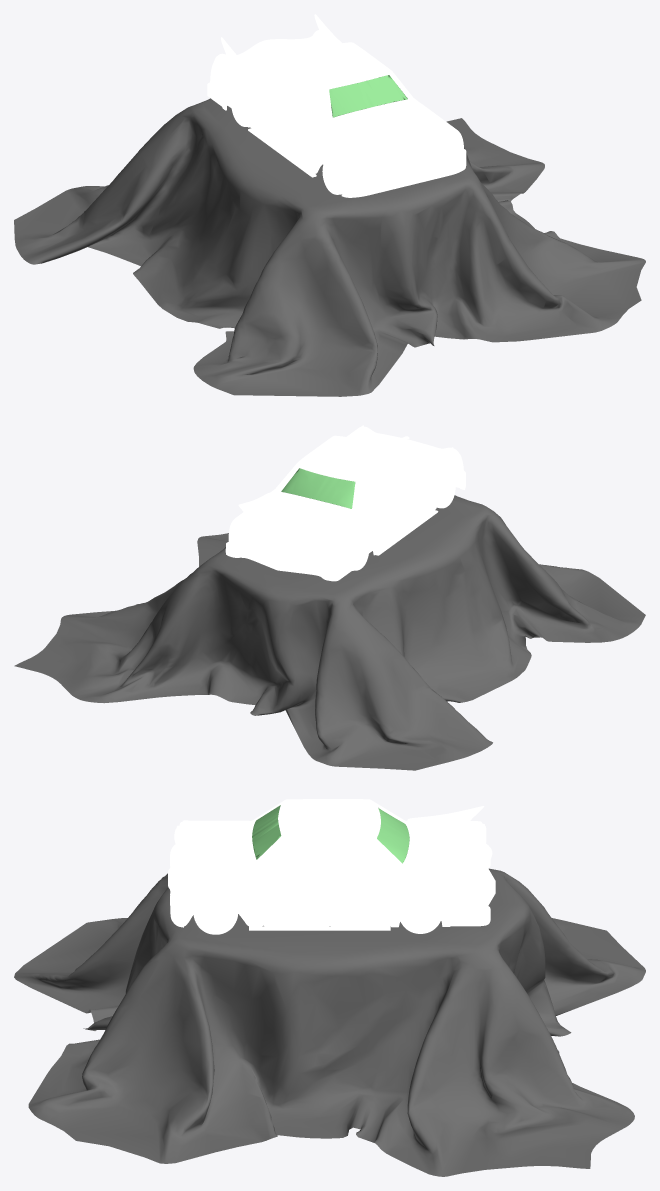
Rendered from toycar.glb.
3 views of the same model, one above another, from view 1: azimuth 30°, elevation 25°; view 2: azimuth 150°, elevation 25°; view 3: azimuth 270°, elevation 25° (orthographic). The views are drawn at different scales.
Visible parts, largest first — view 1: Fabric, ToyCar, Glass; view 2: Fabric, ToyCar, Glass; view 3: Fabric, ToyCar, Glass.
Part boxes in pixels (left/top/right/bottom): Fabric: left=14, top=98, right=645, bottom=396; ToyCar: left=207, top=14, right=466, bottom=197; Glass: left=329, top=75, right=407, bottom=117; Fabric: left=14, top=495, right=645, bottom=770; ToyCar: left=225, top=425, right=465, bottom=581; Glass: left=281, top=468, right=355, bottom=508; Fabric: left=14, top=868, right=645, bottom=1176; ToyCar: left=168, top=799, right=495, bottom=934; Glass: left=252, top=805, right=409, bottom=863.
Size of the model in its own units: 0.0734 by 0.0288 by 0.074.
